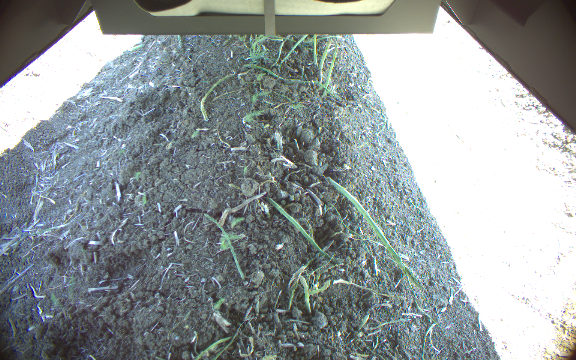aspa: (293, 272, 312, 314), (324, 46, 340, 90), (316, 39, 332, 76), (312, 33, 319, 67)
